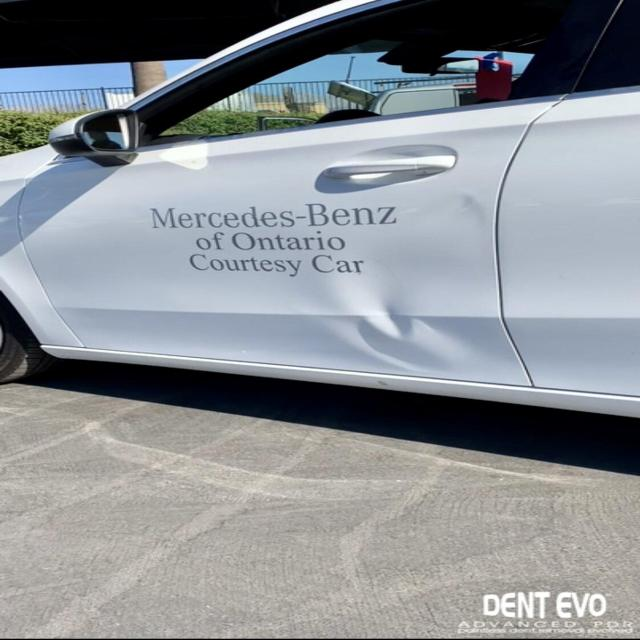dent: (295, 192, 524, 388)
